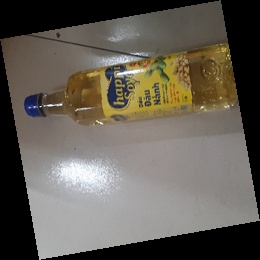Happy Soya: (21, 42, 241, 128)
